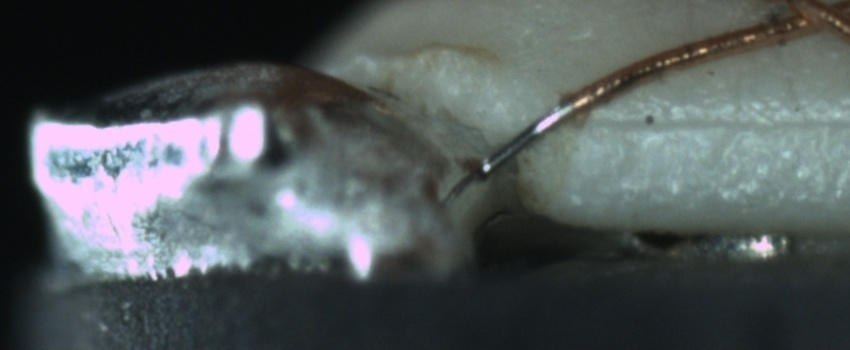CL: (748, 0, 850, 42)
DL: (570, 91, 847, 153)
TS: (480, 101, 575, 176)
